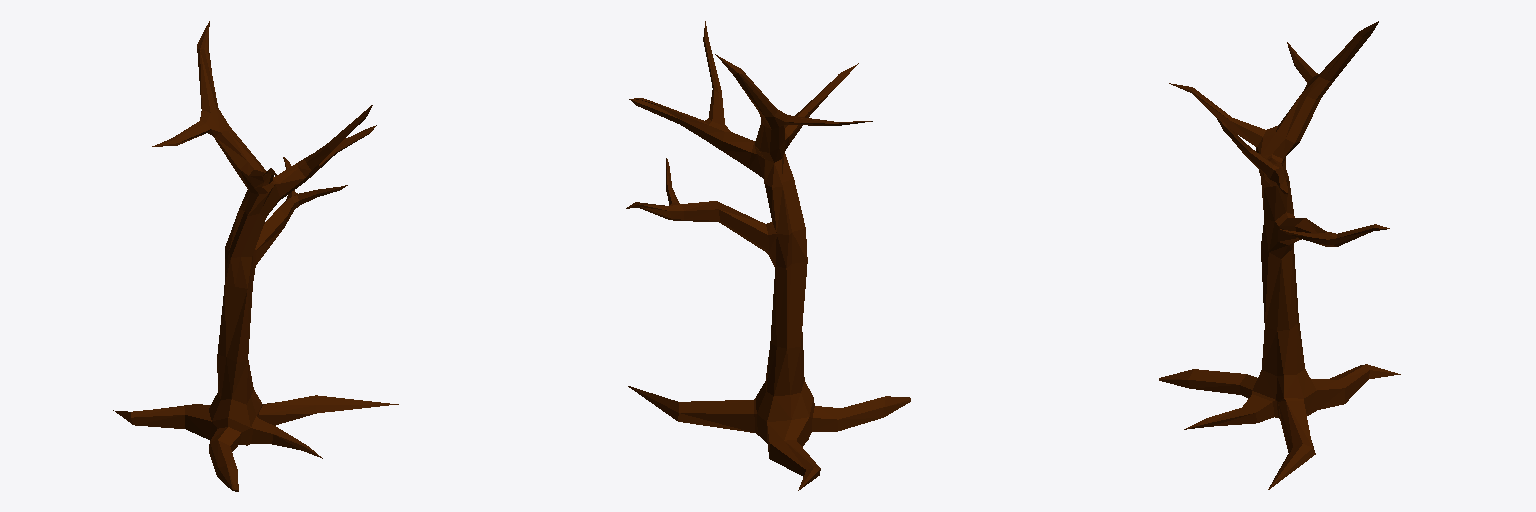
robot.urdf — broad_leaved_tree:
<?xml version="1.0" ?>

<robot name="broad_leaved_tree" xmlns:xacro="http://ros.org/wiki/xacro">
  <gazebo>
    <static>true</static>
  </gazebo>
  <link name="broad_leaved_tree_trunk">
    <!--MAIN_BODY-->
    <visual>
      <origin rpy="0 0 0" xyz="0 0 0"/>
      <geometry>
        <mesh filename="package://iai_outdoor_models/models/broad_leaved_tree/broad_leaved_tree_trunk.stl"/>
      </geometry>
      <material name="IAI_RESCUE/broad_leaved_trunk">
       <color rgba="0.31 0.15 0.033 1.0"/>
     </material>
    </visual>
    <collision>
      <origin rpy="0 0 0" xyz="0 0 0"/>
      <geometry>
        <mesh filename="package://iai_outdoor_models/models/broad_leaved_tree/broad_leaved_tree_trunk.stl"/>
      </geometry>
    </collision>
    <inertial>
      <mass value=".1"/>
      <origin xyz="0 0 0"/>
      <inertia ixx="0.001" ixy="0.0" ixz="0.0" iyy="0.001" iyz="0.0" izz="0.001"/>
    </inertial>
  </link>
  <link name="broad_leaved_tree_branches">
    <!--MAIN_BODY-->
    <visual>
      <origin rpy="0 0 0" xyz="0 0 0"/>
      <geometry>
        <mesh filename="package://iai_outdoor_models/models/broad_leaved_tree/broad_leaved_tree_branches.stl"/>
      </geometry>
      <material name="IAI_RESCUE/broad_leaved_branch">
       <color rgba="0.176738 0.295692 0.014561 1.0"/>
     </material>
    </visual>
    <collision>
      <origin rpy="0 0 0" xyz="0 0 0"/>
      <geometry>
        <mesh filename="package://iai_outdoor_models/models/broad_leaved_tree/broad_leaved_tree_branches.stl"/>
      </geometry>
    </collision>
    <inertial>
      <mass value=".1"/>
      <origin xyz="0 0 0"/>
      <inertia ixx="0.001" ixy="0.0" ixz="0.0" iyy="0.001" iyz="0.0" izz="0.001"/>
    </inertial>
  </link>
  
   <joint name="branch_joint" type="fixed">
    <origin xyz="0 0 0" rpy="0 0 0"/>
    <parent link="broad_leaved_tree_trunk"/>
    <child link="broad_leaved_tree_branches"/>
  </joint>
</robot>
 

--- Render facts (derived) ---
The picture shows the robot from 3 angles, left to right: view 1: azimuth 30°, elevation 25°; view 2: azimuth 150°, elevation 25°; view 3: azimuth 270°, elevation 25°; orthographic projection.
Robot: broad_leaved_tree — 2 links, 1 joints (1 fixed); root link broad_leaved_tree_trunk; default pose: every joint at zero.
Links seen in each view (by area): view 1: broad_leaved_tree_trunk; view 2: broad_leaved_tree_trunk; view 3: broad_leaved_tree_trunk.
Link boxes in pixels (box(x1,y1,x2,y2)): broad_leaved_tree_trunk: box(113, 21, 398, 491); broad_leaved_tree_trunk: box(626, 21, 910, 490); broad_leaved_tree_trunk: box(1159, 21, 1400, 489).
Bounding box of the posed robot: 2.38 × 1.97 × 3.6 m (x, y, z).
Meshes: 2 distinct files referenced, 1 mesh visuals loaded (1 binary STL); not drawn: 1 (reference not matched to a file when rendering).